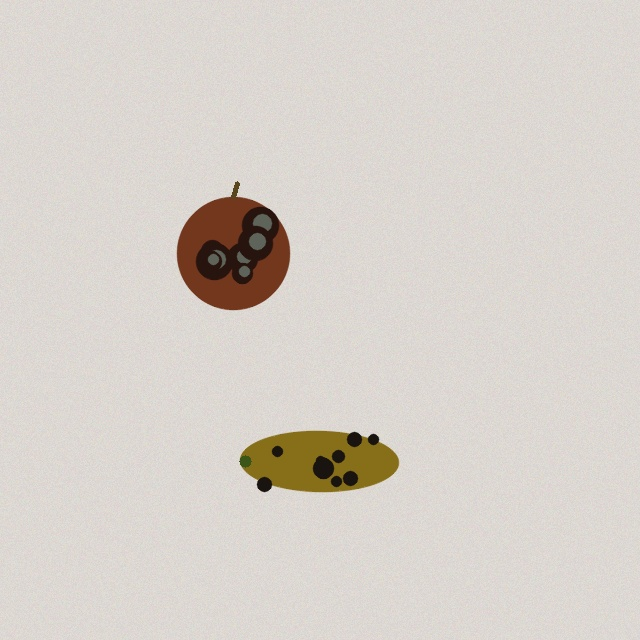Rotten apple: (177, 183, 289, 309)
Rotten banana: (237, 424, 401, 498)
